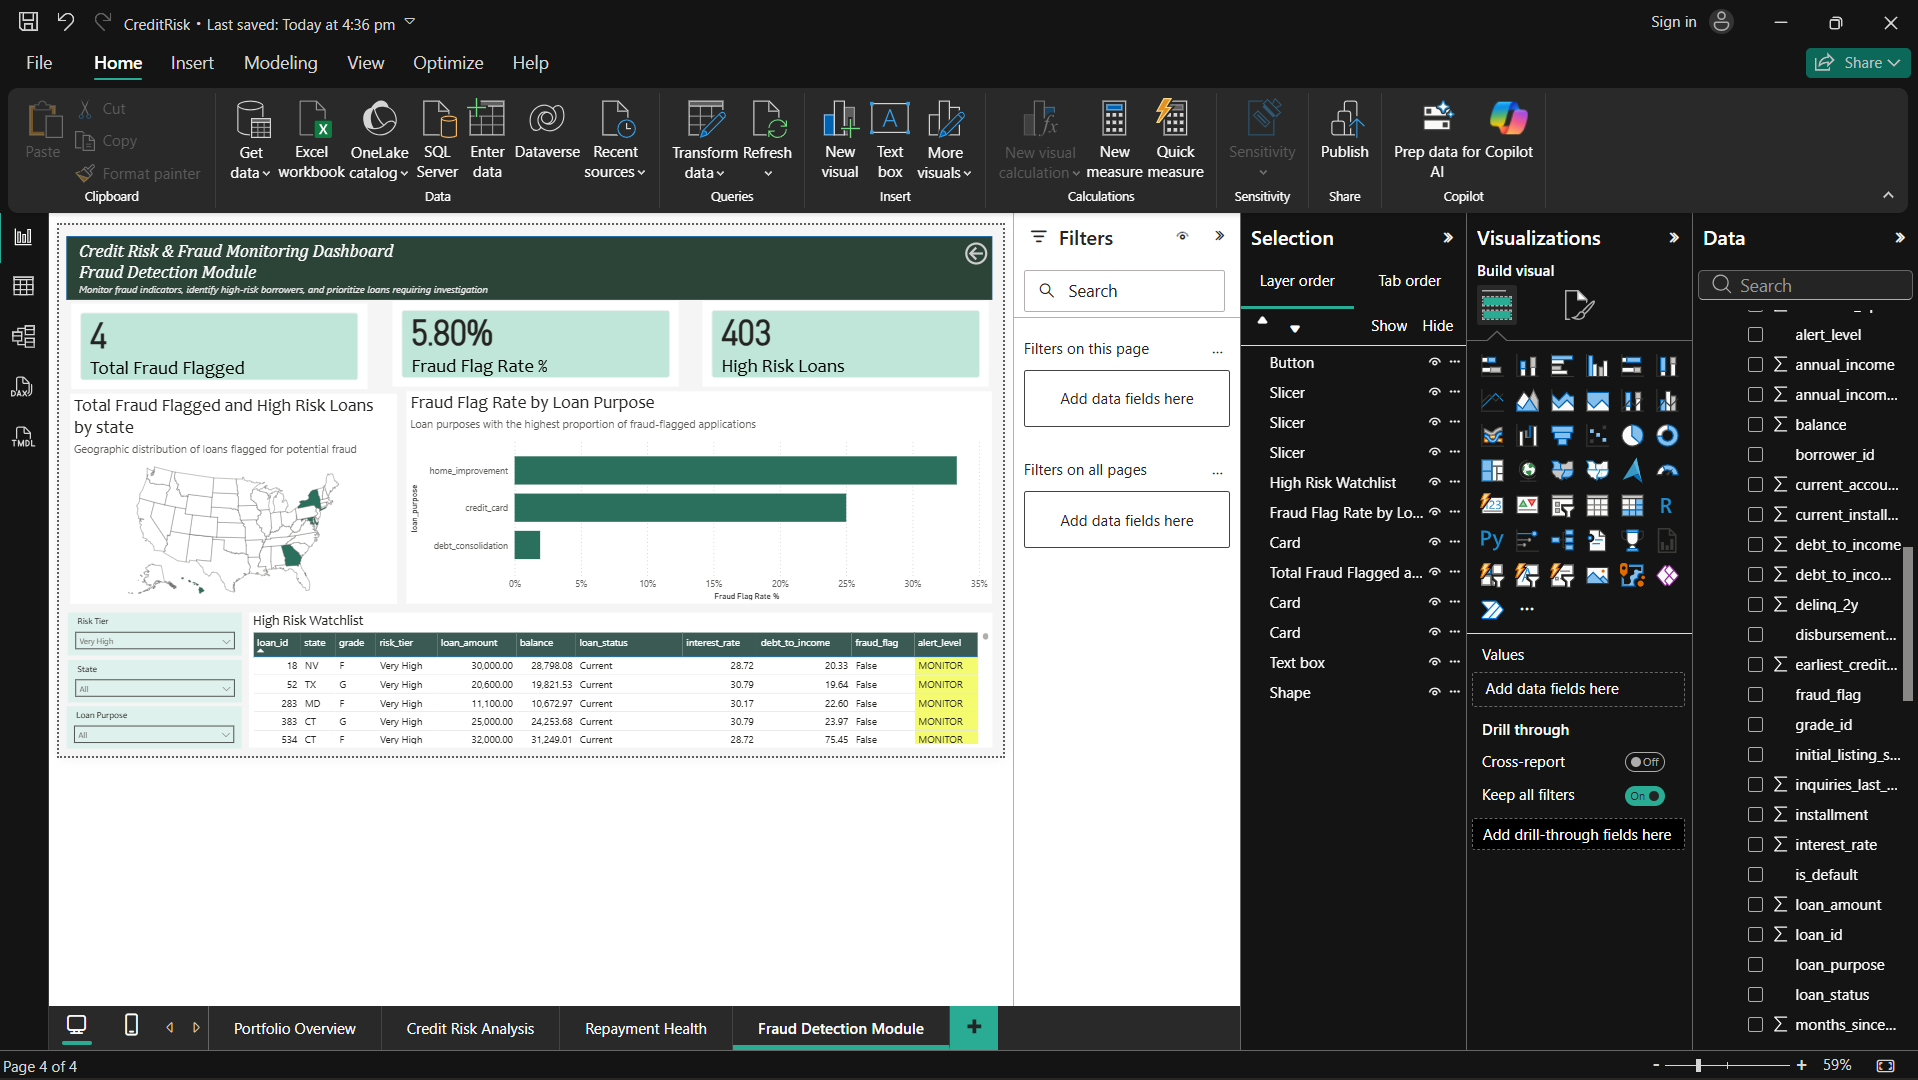

Layout of this report page (visuals, bound fields, positions):
{"tool":"powerbi","page":{"name":"Fraud Detection Module","canvas":[1280,720],"ordinal":3},"visuals":[{"type":"shape","box":[11,15.1,1255.6,86.4],"z":0},{"type":"textbox","box":[21.8,15.5,1243.6,86.4],"z":1000},{"type":"cardVisual","fields":{"Data":["_Measures.Total Fraud Flagged"]},"box":[11.7,101.7,411.7,126.7],"z":2000},{"type":"cardVisual","fields":{"Data":["_Measures.Fraud Flag Rate %"]},"box":[446.7,98.3,398.3,126.7],"z":3000},{"type":"shapeMap","fields":{"Category":["public dim_borrower.state"],"Value":["_Measures.Total Fraud Flagged"]},"box":[15,228.3,443.3,285],"z":4000},{"type":"cardVisual","fields":{"Data":["_Measures.High Risk Loans"]},"box":[868.3,98.3,398.3,126.7],"z":5000},{"type":"barChart","title":"Fraud Flag Rate by Loan Purpose","fields":{"Category":["public fact_loans.loan_purpose"],"Y":["_Measures.Fraud Flag Rate %"]},"box":[471.7,225,793.3,288.3],"z":6000},{"type":"tableEx","title":"High Risk Watchlist","fields":{"Values":["public fact_loans.loan_id","public dim_borrower.state","public dim_grade.grade","public dim_grade.risk_tier","public fact_loans.loan_amount","public fact_loans.balance","public fact_loans.loan_status","public fact_loans.interest_rate","public fact_loans.debt_to_income","public fact_loans.fraud_flag","public fact_loans.alert_level"]},"box":[258.3,525,1008.3,183.3],"z":7000},{"type":"slicer","fields":{"Values":["public dim_grade.risk_tier"]},"box":[11.8,525.5,236.4,58.2],"z":8000},{"type":"slicer","fields":{"Values":["public dim_borrower.state"]},"box":[11.8,590,236.4,57.3],"z":9000},{"type":"slicer","fields":{"Values":["public fact_loans.loan_purpose"]},"box":[10.9,651.8,237.3,57.3],"z":10000},{"type":"actionButton","box":[1224,18,42,40],"z":10001}]}

Visuals, with their boxes on the page's 1280x720 design canvas (x1, y1, x2, y2). These are canvas units, not pixel positions in the 1918x1080 screenshot, which may show the page scaled, cropped or inside an application window:
shape: pyautogui.locateOnScreen(11, 15, 1267, 102)
textbox: pyautogui.locateOnScreen(22, 16, 1265, 102)
cardVisual - _Measures.Total Fraud Flagged: pyautogui.locateOnScreen(12, 102, 423, 228)
cardVisual - _Measures.Fraud Flag Rate %: pyautogui.locateOnScreen(447, 98, 845, 225)
shapeMap - public dim_borrower.state x _Measures.Total Fraud Flagged: pyautogui.locateOnScreen(15, 228, 458, 513)
cardVisual - _Measures.High Risk Loans: pyautogui.locateOnScreen(868, 98, 1267, 225)
"Fraud Flag Rate by Loan Purpose" barChart: pyautogui.locateOnScreen(472, 225, 1265, 513)
"High Risk Watchlist" tableEx: pyautogui.locateOnScreen(258, 525, 1267, 708)
slicer - public dim_grade.risk_tier: pyautogui.locateOnScreen(12, 526, 248, 584)
slicer - public dim_borrower.state: pyautogui.locateOnScreen(12, 590, 248, 647)
slicer - public fact_loans.loan_purpose: pyautogui.locateOnScreen(11, 652, 248, 709)
actionButton: pyautogui.locateOnScreen(1224, 18, 1266, 58)
